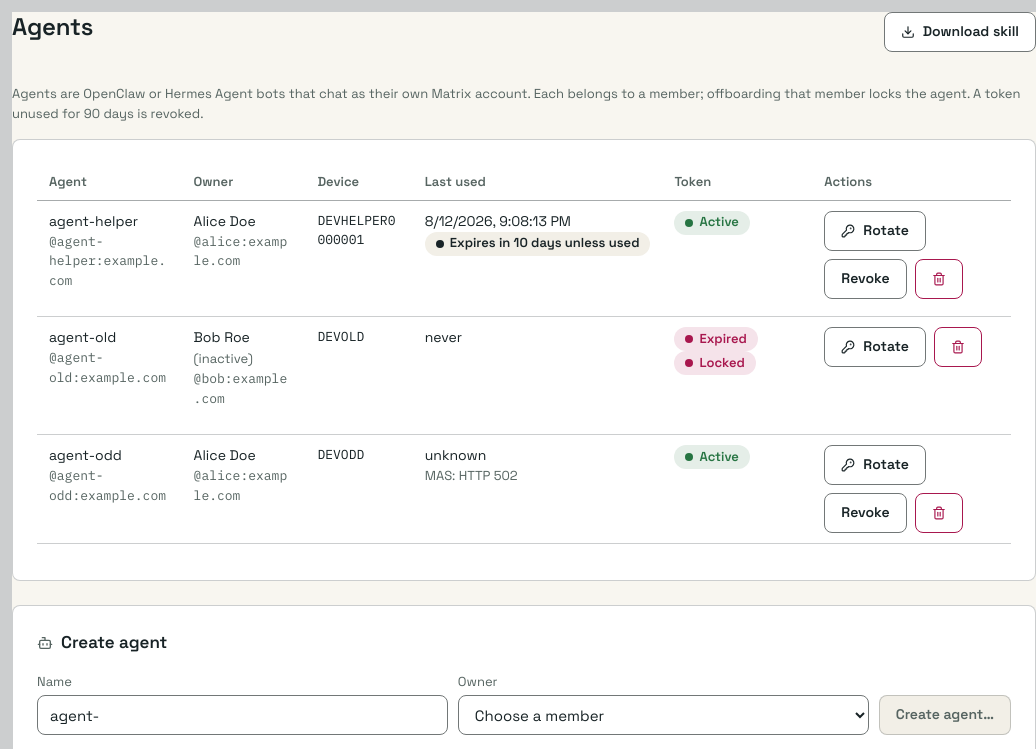
it: Agents › deletes only after the inline confirm
Click the button named "Delete agent-helper" at (939, 278), box x1=915 y1=258 x2=963 y2=298
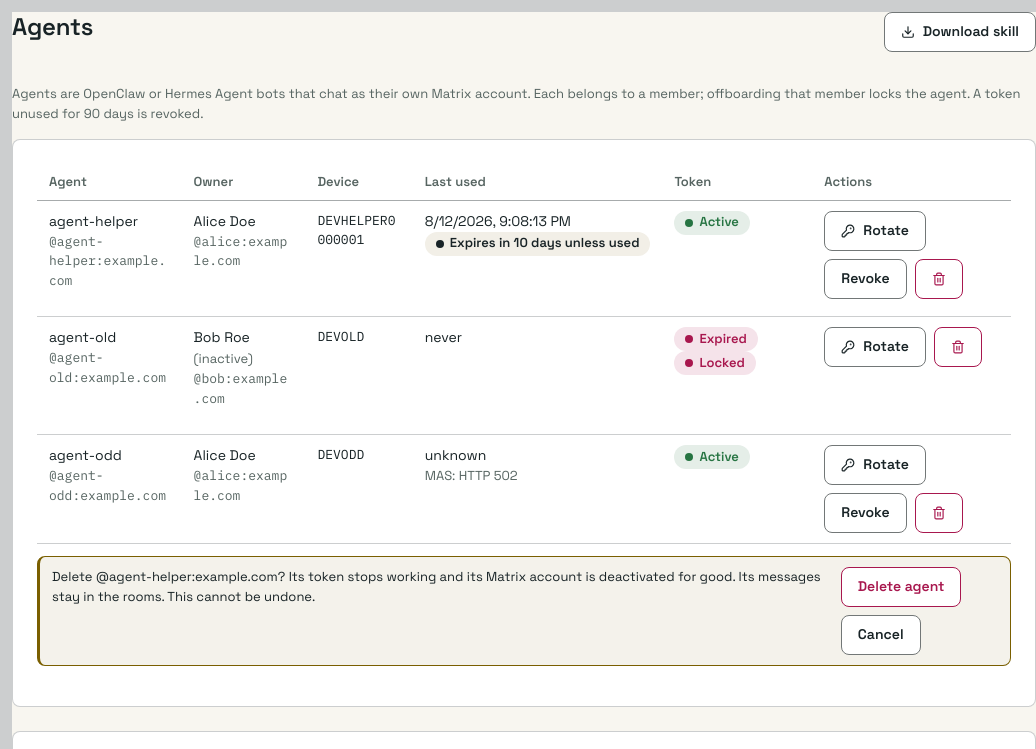
Check: the element named "Confirm delete" shows "messages stay", box x1=52 y1=568 x2=821 y2=604
Click the button "Cancel" at (881, 635), box x1=841 y1=615 x2=920 y2=655
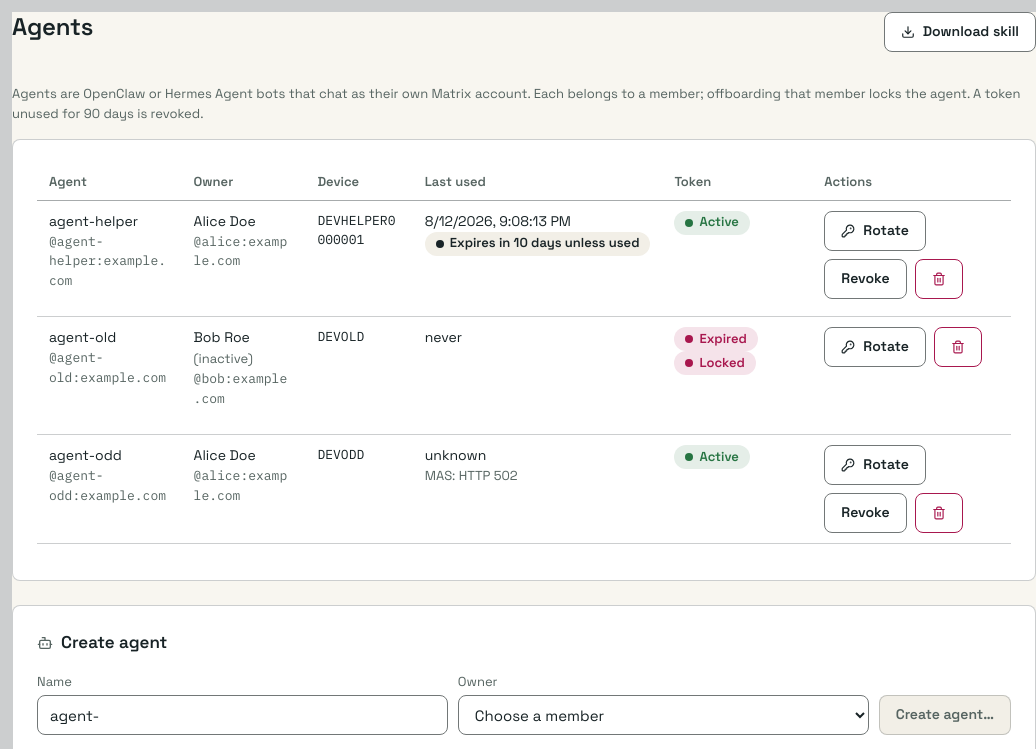
Click the button named "Delete agent-helper" at (939, 278), box x1=915 y1=258 x2=963 y2=298
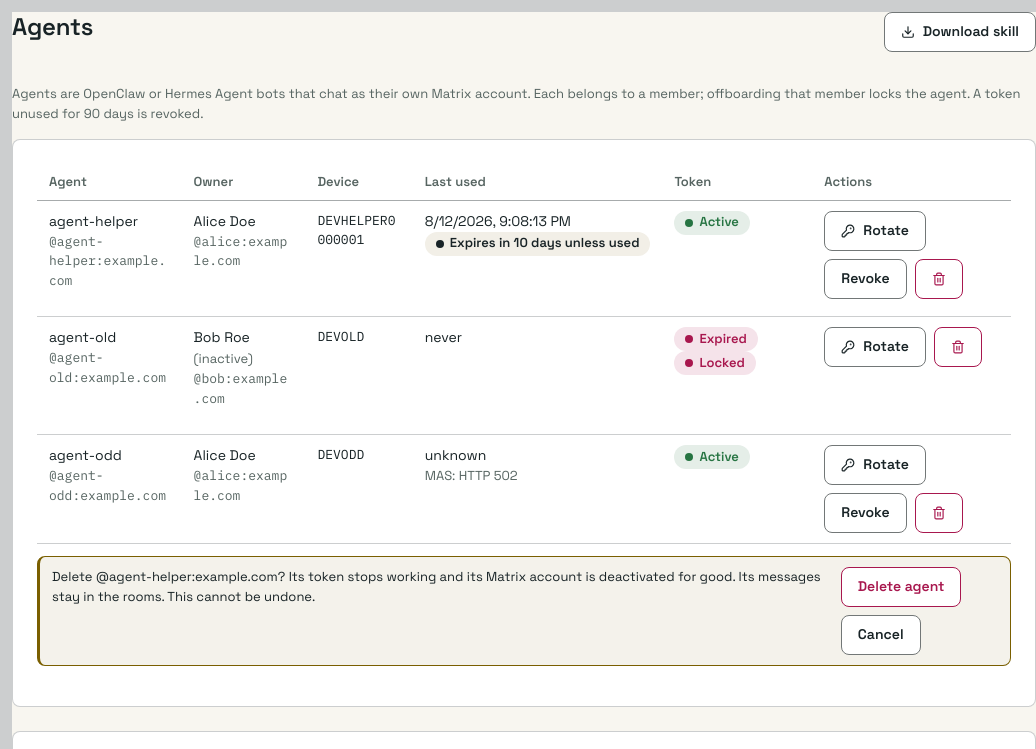
Click the button "Delete agent" at (901, 587), box x1=841 y1=567 x2=962 y2=607
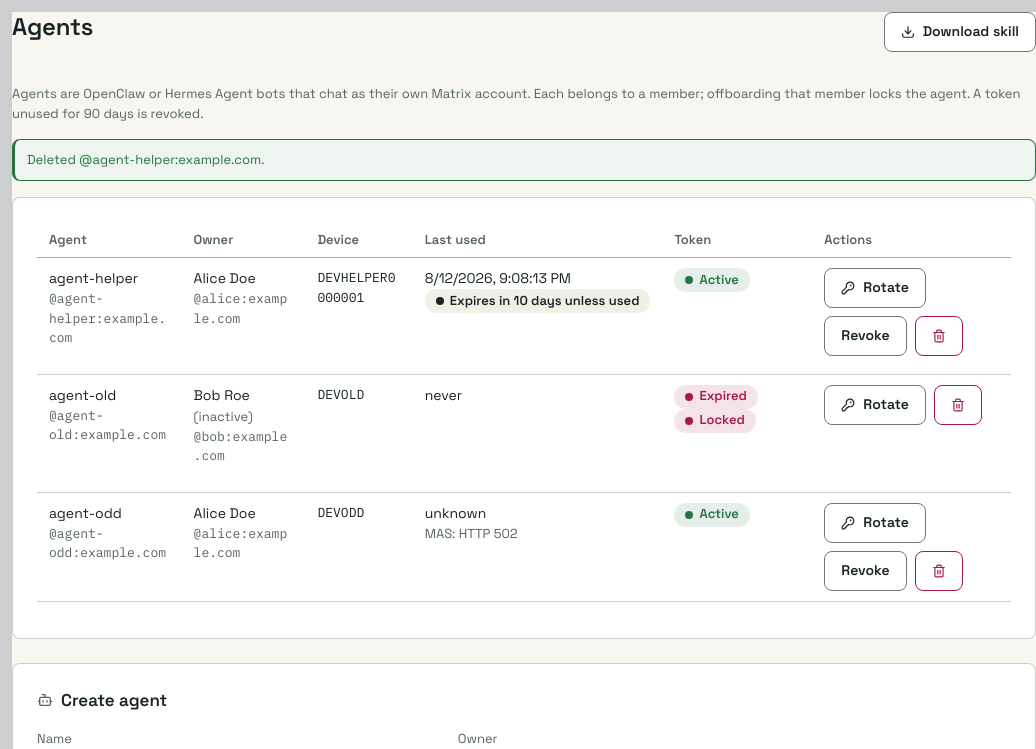
Check: the text "Deleted @agent-helper:example.com." is shown, box x1=27 y1=150 x2=264 y2=170
